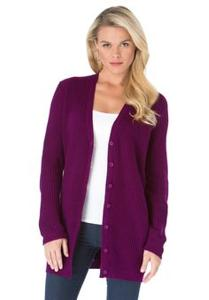C_cardigan sweater: (35, 75, 175, 271)
